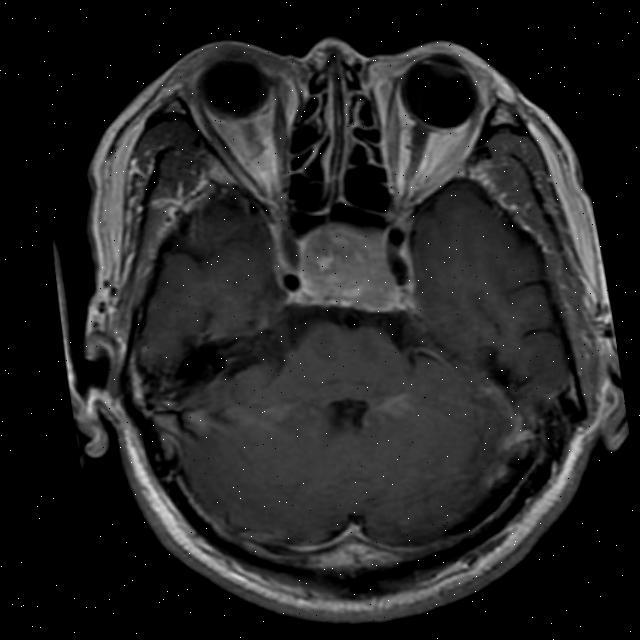Pituitary: (289, 211, 395, 321)
